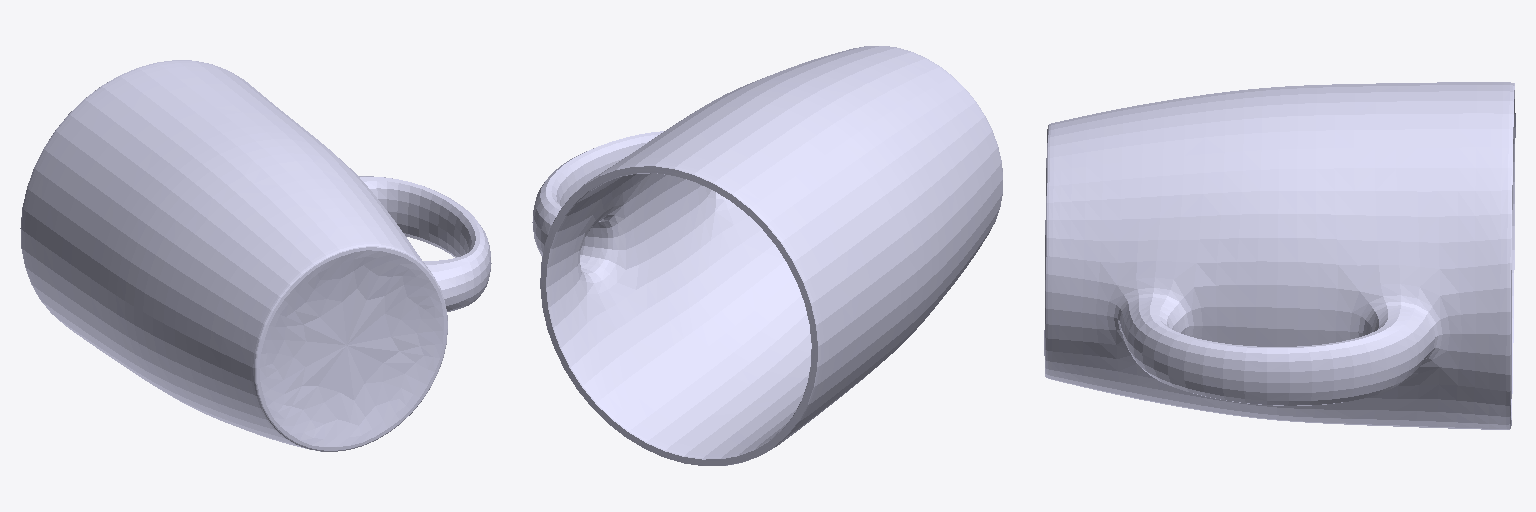
URDF robot description (cup):
<?xml version="1.0"?>
<robot name="cup">
	<material name="White">
		<color rgba="0.9 0.9 1.0 0.7"/>
	</material>
	<link name="base_link">
		<contact>
			<lateral_friction value="0.5"/>
			<rolling_friction value="0.0"/>
			<contact_cfm value="0.0"/>
			<contact_erp value="1.0"/>
		</contact>
		<inertial>
			<mass value="0.1"/>
			<inertia ixx="0" ixy="0" ixz="0" iyy="0" iyz="0" izz="0"/>
		</inertial>
		<visual>
			<geometry>
				<mesh filename="cup2.obj"/>
			</geometry>
			<material name="White"/>
		</visual>
		<collision concave="yes">
			<geometry>
				<mesh filename="cup2.obj"/>
			</geometry>
		</collision>
	</link>
</robot>

--- Facts derived from the render (not from the file) ---
Views: 3 orthographic renders of the robot side by side, from view 1: azimuth 30°, elevation 25°; view 2: azimuth 150°, elevation 25°; view 3: azimuth 270°, elevation 25°.
Robot: cup — 1 links, 0 joints (none); root link base_link; default pose: all joints at 0.
Visible links, largest first — view 1: base_link; view 2: base_link; view 3: base_link.
Boxes of the visible links, x1=… form: base_link: x1=20, y1=60, x2=491, y2=451; base_link: x1=532, y1=46, x2=1002, y2=465; base_link: x1=1044, y1=82, x2=1515, y2=429.
Bounding box of the posed robot: 3.09 × 3.18 × 2.35 m (x, y, z).
Meshes: 1 distinct files referenced, 1 mesh visuals loaded (1 OBJ).
